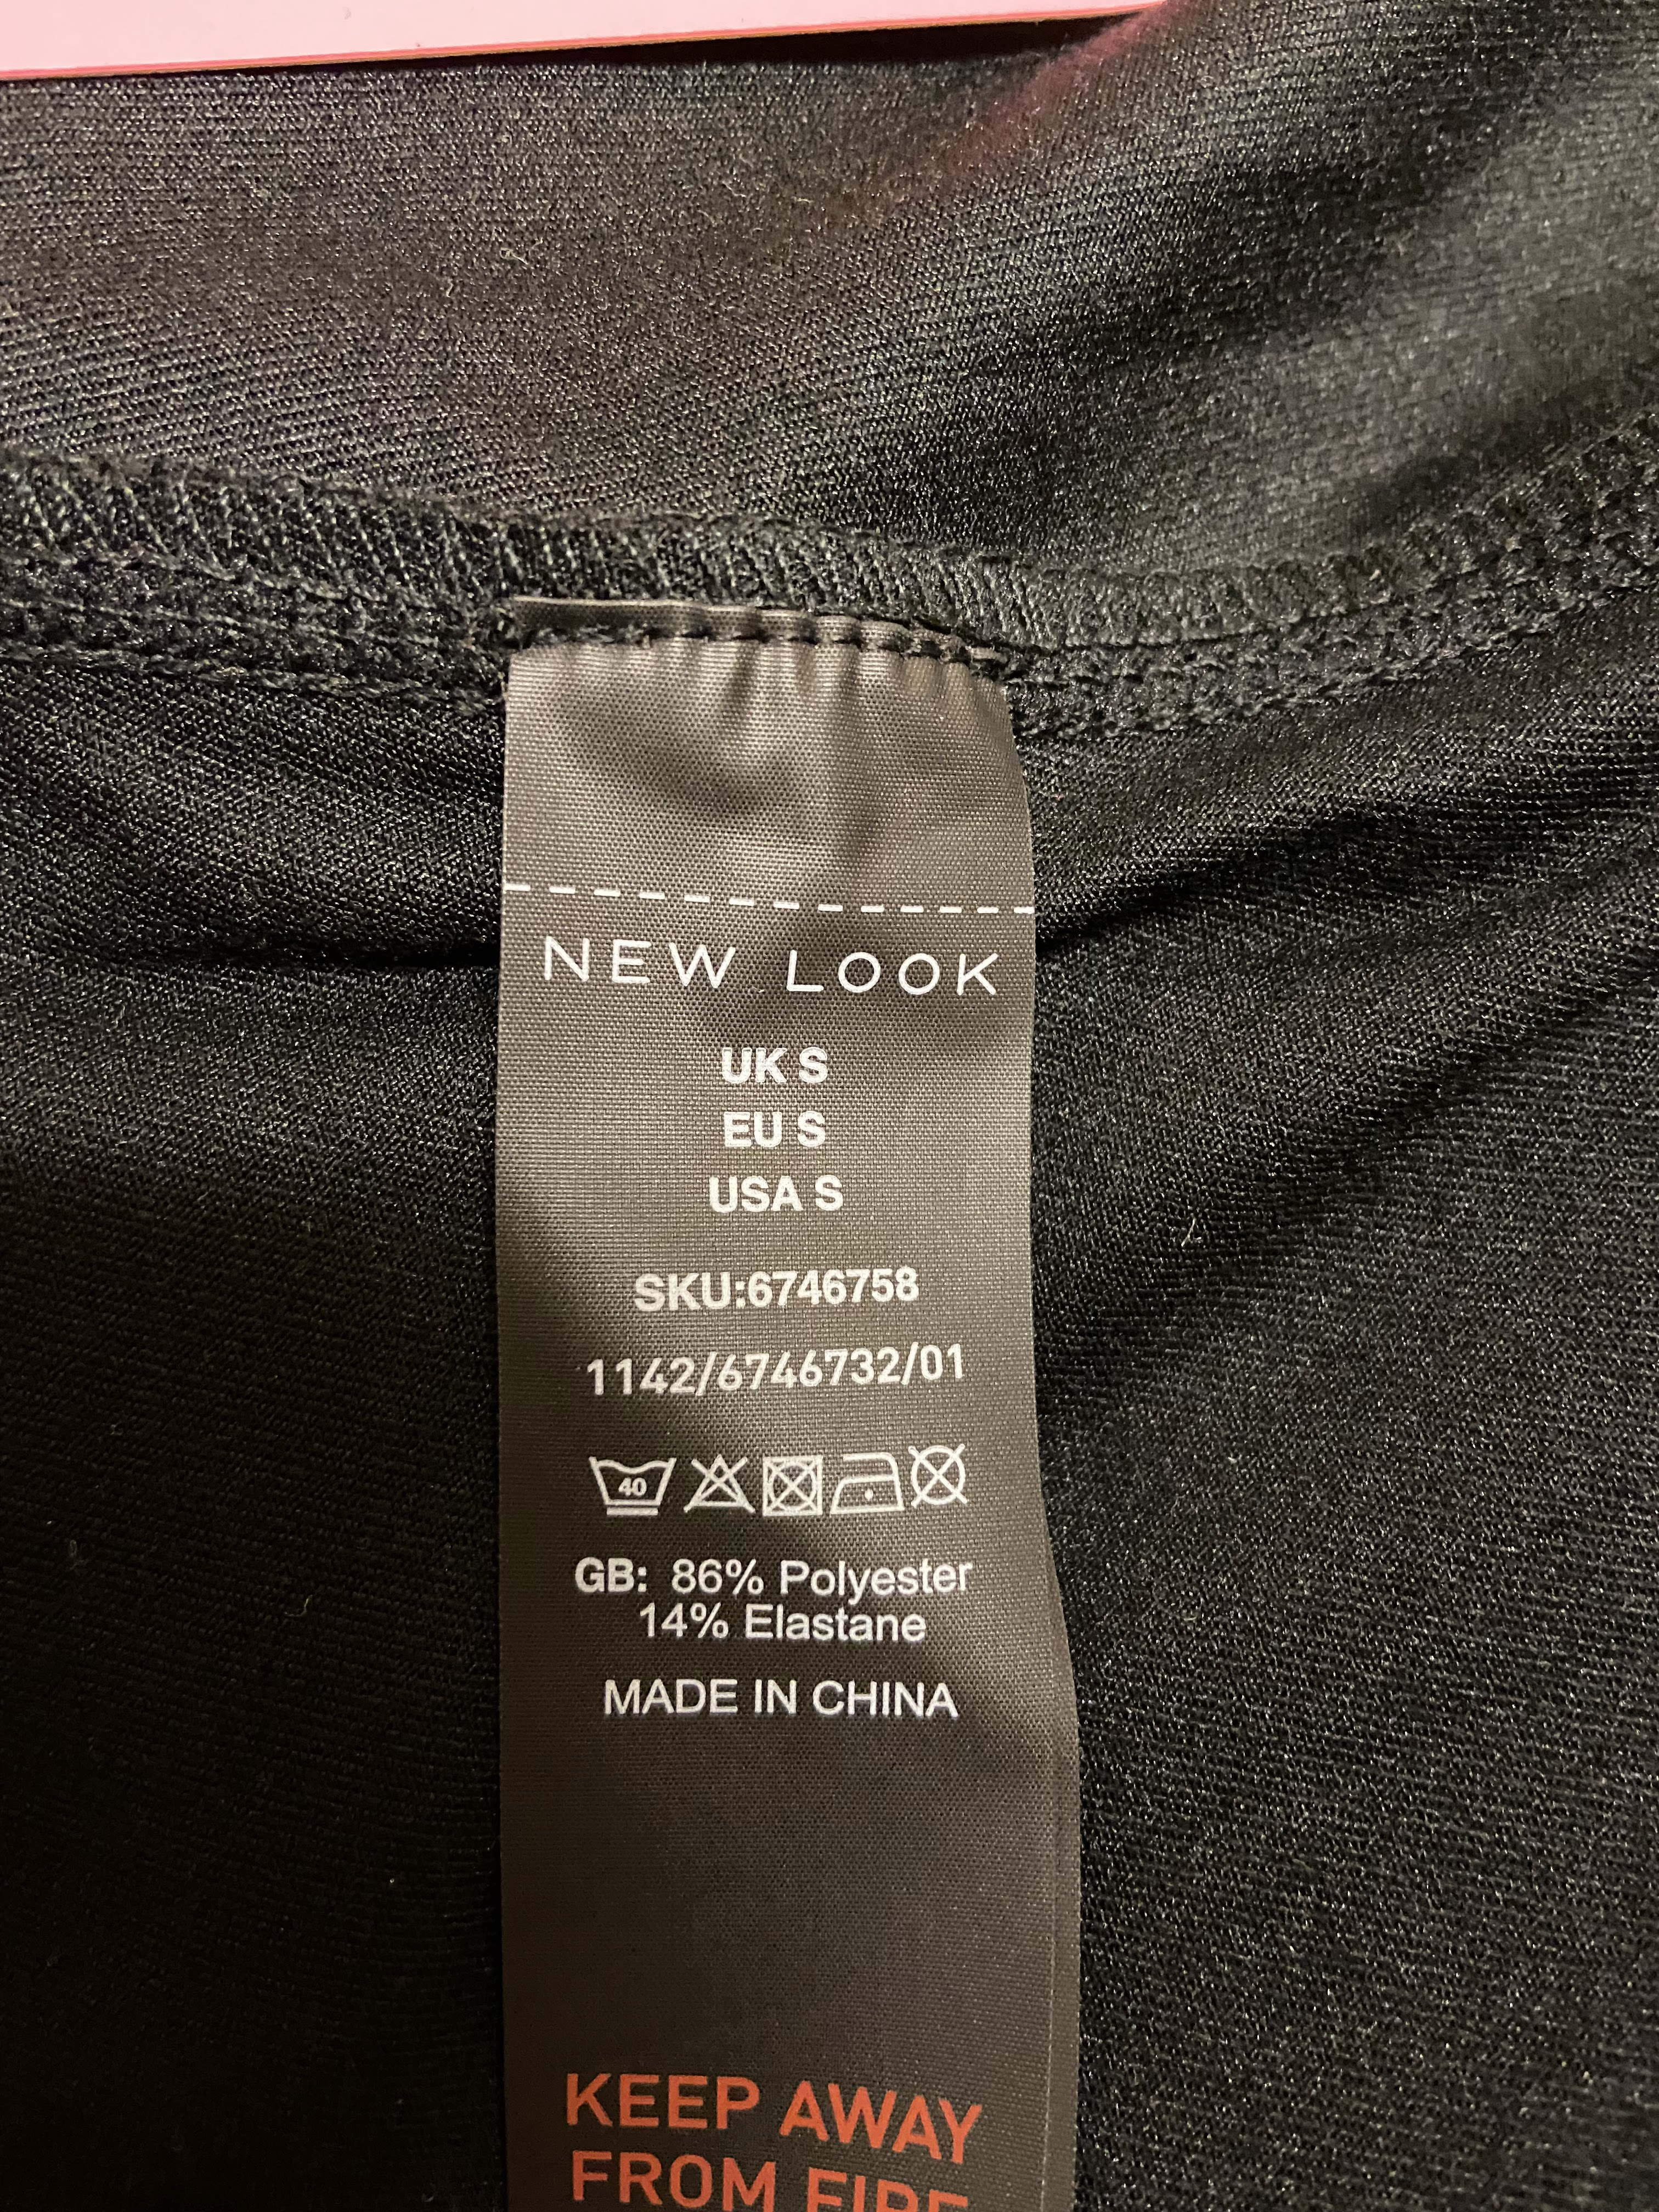do not bleach: (687, 1439, 769, 1519)
do not dry clean: (910, 1440, 993, 1512)
do not tumble dry: (758, 1446, 838, 1533)
iron low temp: (826, 1454, 917, 1543)
wash at or below 40: (558, 1440, 687, 1541)
